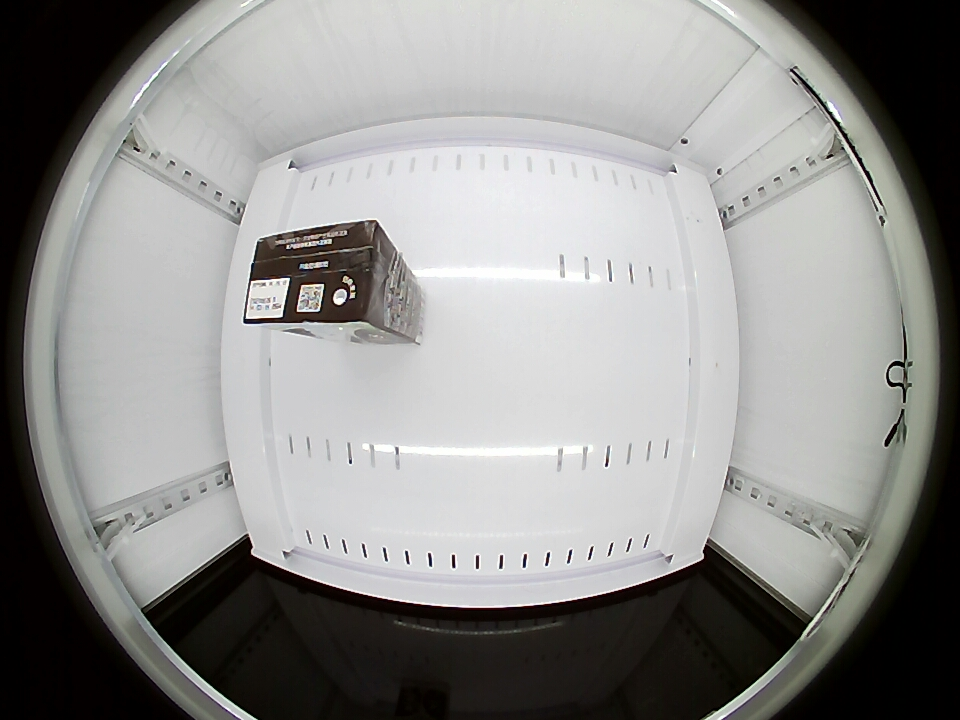weitanai2: (243, 220, 388, 330)
